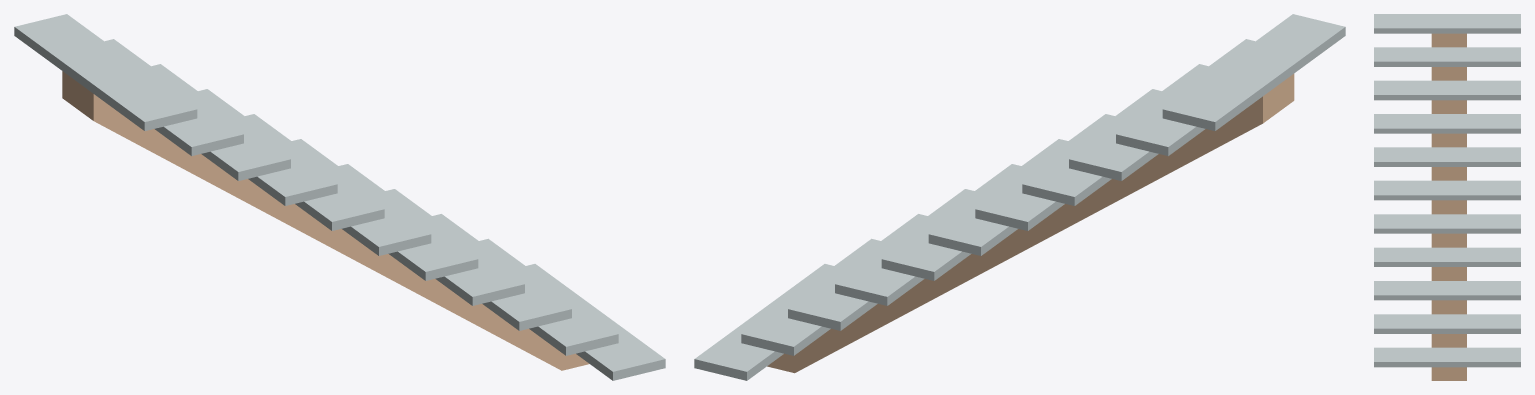
File: stairsOpenSingle.glb
3 views of the same model, side by side, from view 1: azimuth 30°, elevation 25°; view 2: azimuth 150°, elevation 25°; view 3: azimuth 270°, elevation 25° (orthographic). The views are drawn at different scales.
Visible parts, largest first — view 1: stairsOpenSingle, Group; view 2: stairsOpenSingle, Group; view 3: stairsOpenSingle, Group.
Part boxes in pixels (x1,y1,x2,y2): stairsOpenSingle: (14, 14, 665, 380); Group: (62, 71, 589, 370); stairsOpenSingle: (694, 14, 1345, 380); Group: (767, 74, 1294, 373); stairsOpenSingle: (1374, 14, 1520, 367); Group: (1431, 33, 1466, 380).
Bounding box in the file's own units: 1.82 × 1.34 × 0.79.
